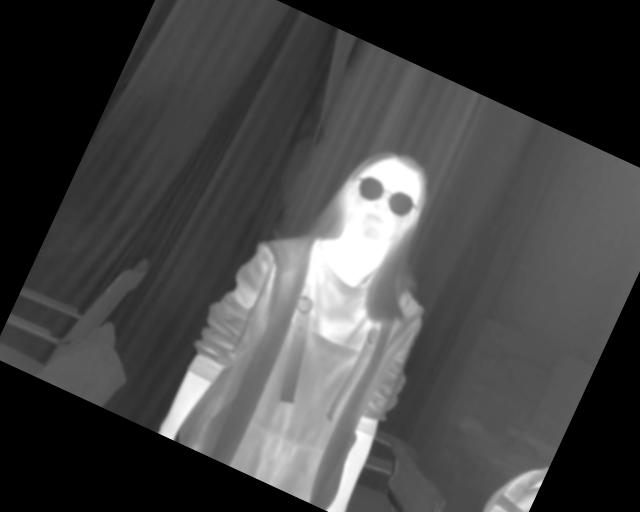face: (328, 137, 440, 256)
